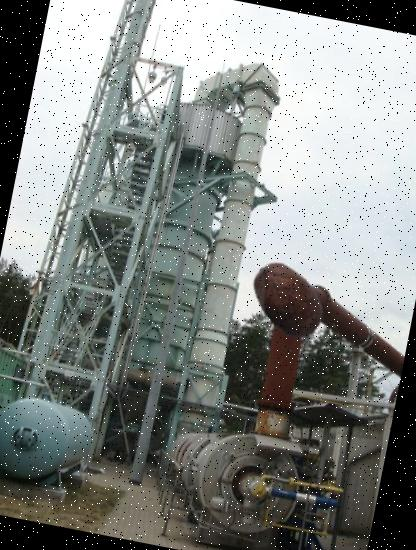Nut: (238, 250, 338, 350)
